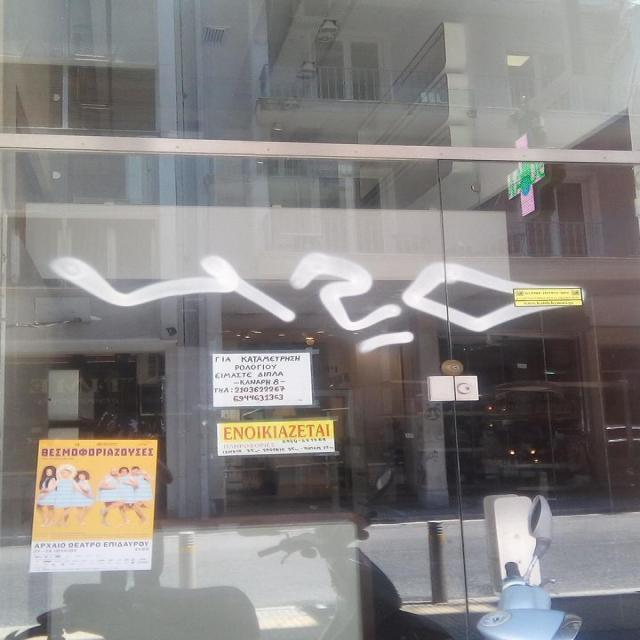nonspitting: (54, 252, 582, 353)
